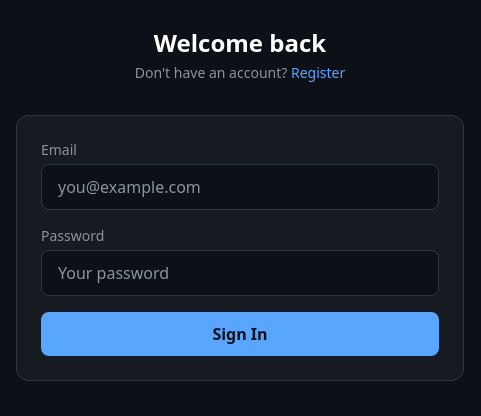
it: Login page › shows a generic error message when the server gives none
The image size is (481, 416).
Type "jane@example.com" into the field labelled "Email" at (240, 187), box [41,164,439,210]
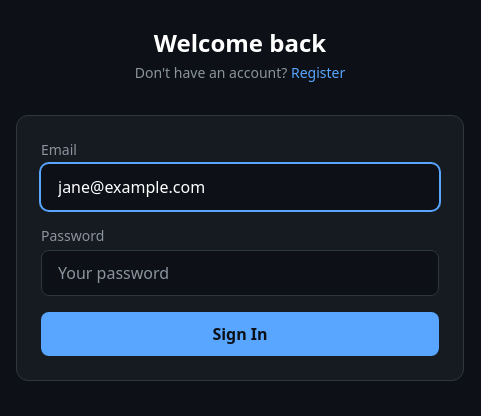
Type "secret" into the password field labelled "Password" at (240, 273), box [41,250,439,296]
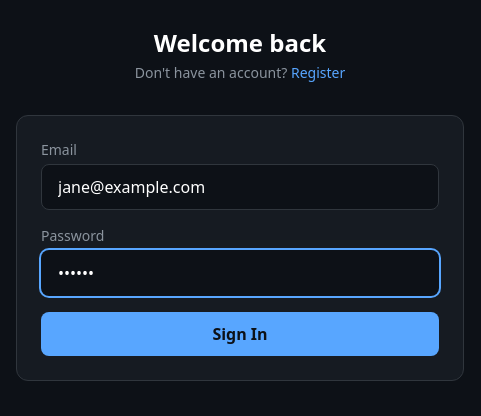
Click the button "Sign In" at (240, 334), box [41,312,439,356]
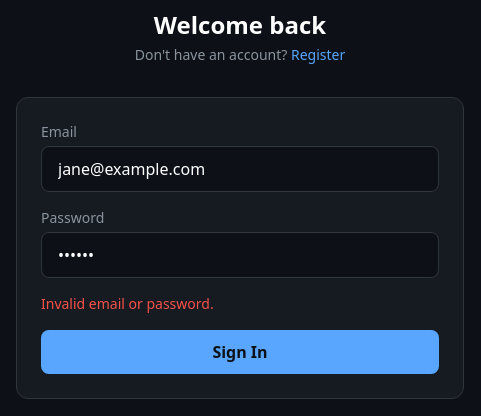
Now the text "Invalid email or password." is shown, box [41,294,214,313]
